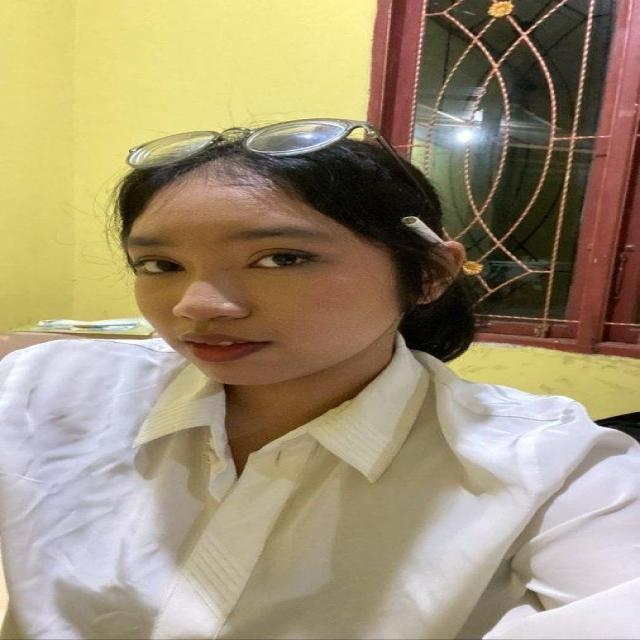rokok: (400, 211, 456, 257)
